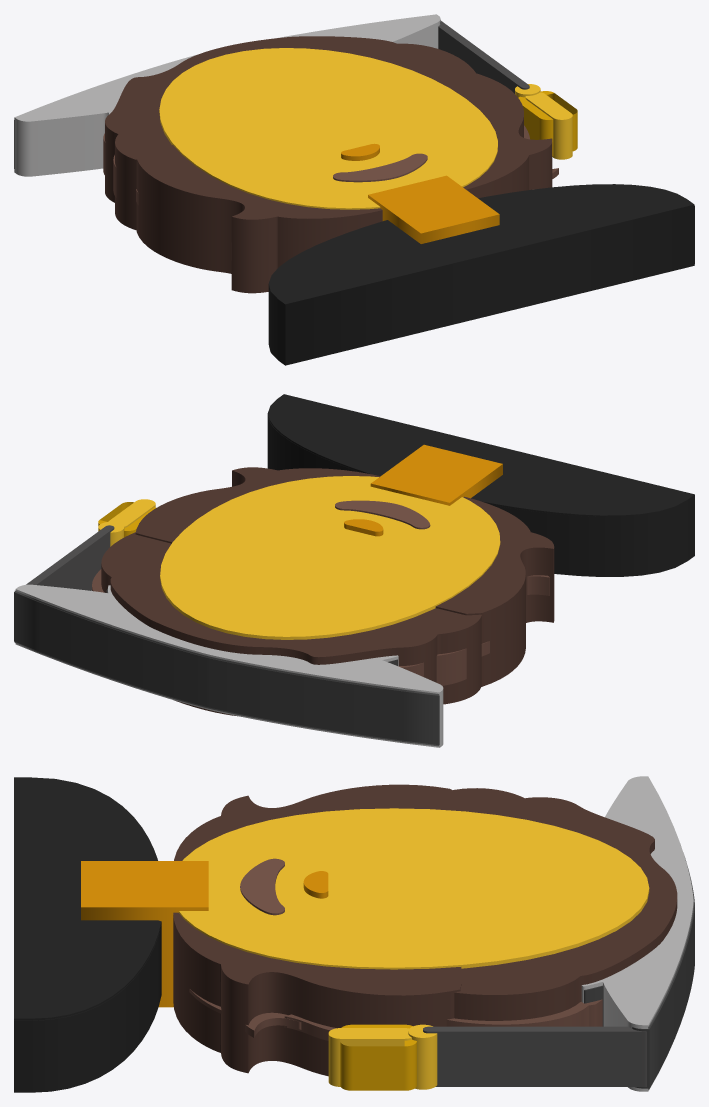
File: emoji_u1f9d1_200d_1f393.glb
3 views of the same model, one above another, from view 1: azimuth 30°, elevation 25°; view 2: azimuth 150°, elevation 25°; view 3: azimuth 270°, elevation 25° (orthographic). The views are drawn at different scales.
Visible parts, largest first — view 1: emoji_u1f9d1_200d_1f393; view 2: emoji_u1f9d1_200d_1f393; view 3: emoji_u1f9d1_200d_1f393.
Part boxes in pixels (x1,y1,x2,y2): emoji_u1f9d1_200d_1f393: [14, 14, 694, 365]; emoji_u1f9d1_200d_1f393: [14, 394, 694, 747]; emoji_u1f9d1_200d_1f393: [14, 776, 694, 1092].
Size of the model in its own units: 0.03 by 0.0056 by 0.0334.
